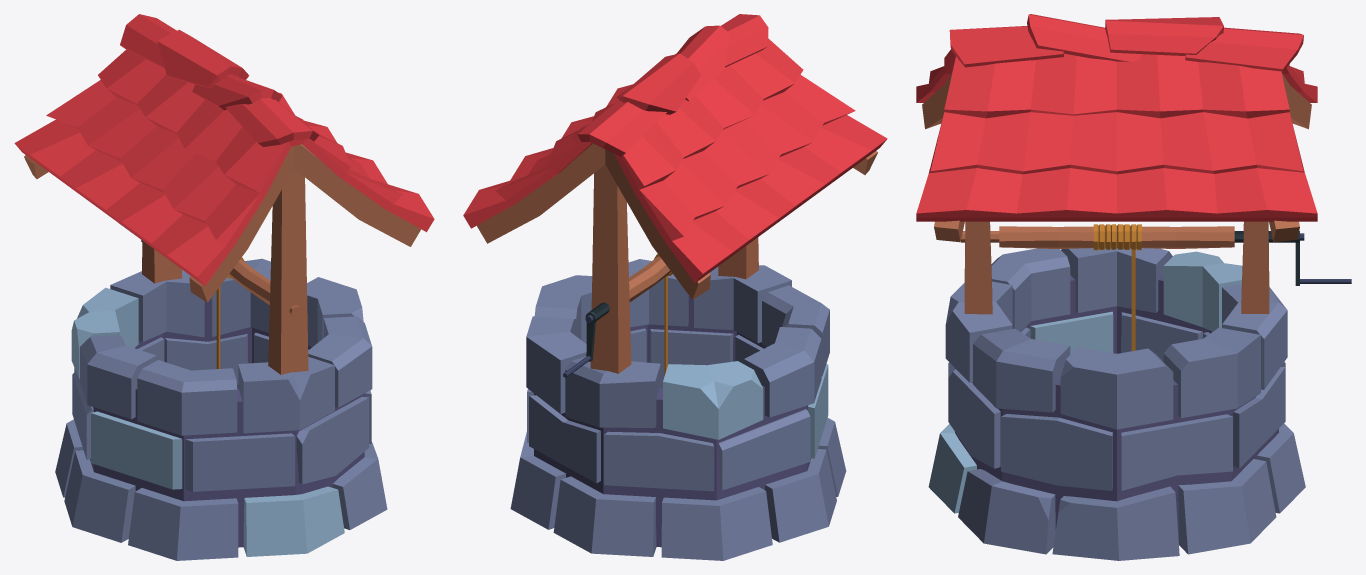
Rendered from Well.fbx.
3 renders of one model, left to right at view 1: azimuth 30°, elevation 25°; view 2: azimuth 150°, elevation 25°; view 3: azimuth 270°, elevation 25°, orthographic. The views are drawn at different scales.
Parts seen in each view (by area): view 1: Well 01, Well 01 Handle; view 2: Well 01, Well 01 Handle; view 3: Well 01, Well 01 Handle.
Boxes of the visible parts, bbox=[...] form: Well 01: bbox=[14, 14, 434, 560]; Well 01 Handle: bbox=[120, 224, 301, 316]; Well 01: bbox=[463, 14, 887, 560]; Well 01 Handle: bbox=[563, 254, 672, 377]; Well 01: bbox=[916, 14, 1317, 560]; Well 01 Handle: bbox=[961, 224, 1351, 285].
Size of the model in its own units: 220 by 309 by 258.
